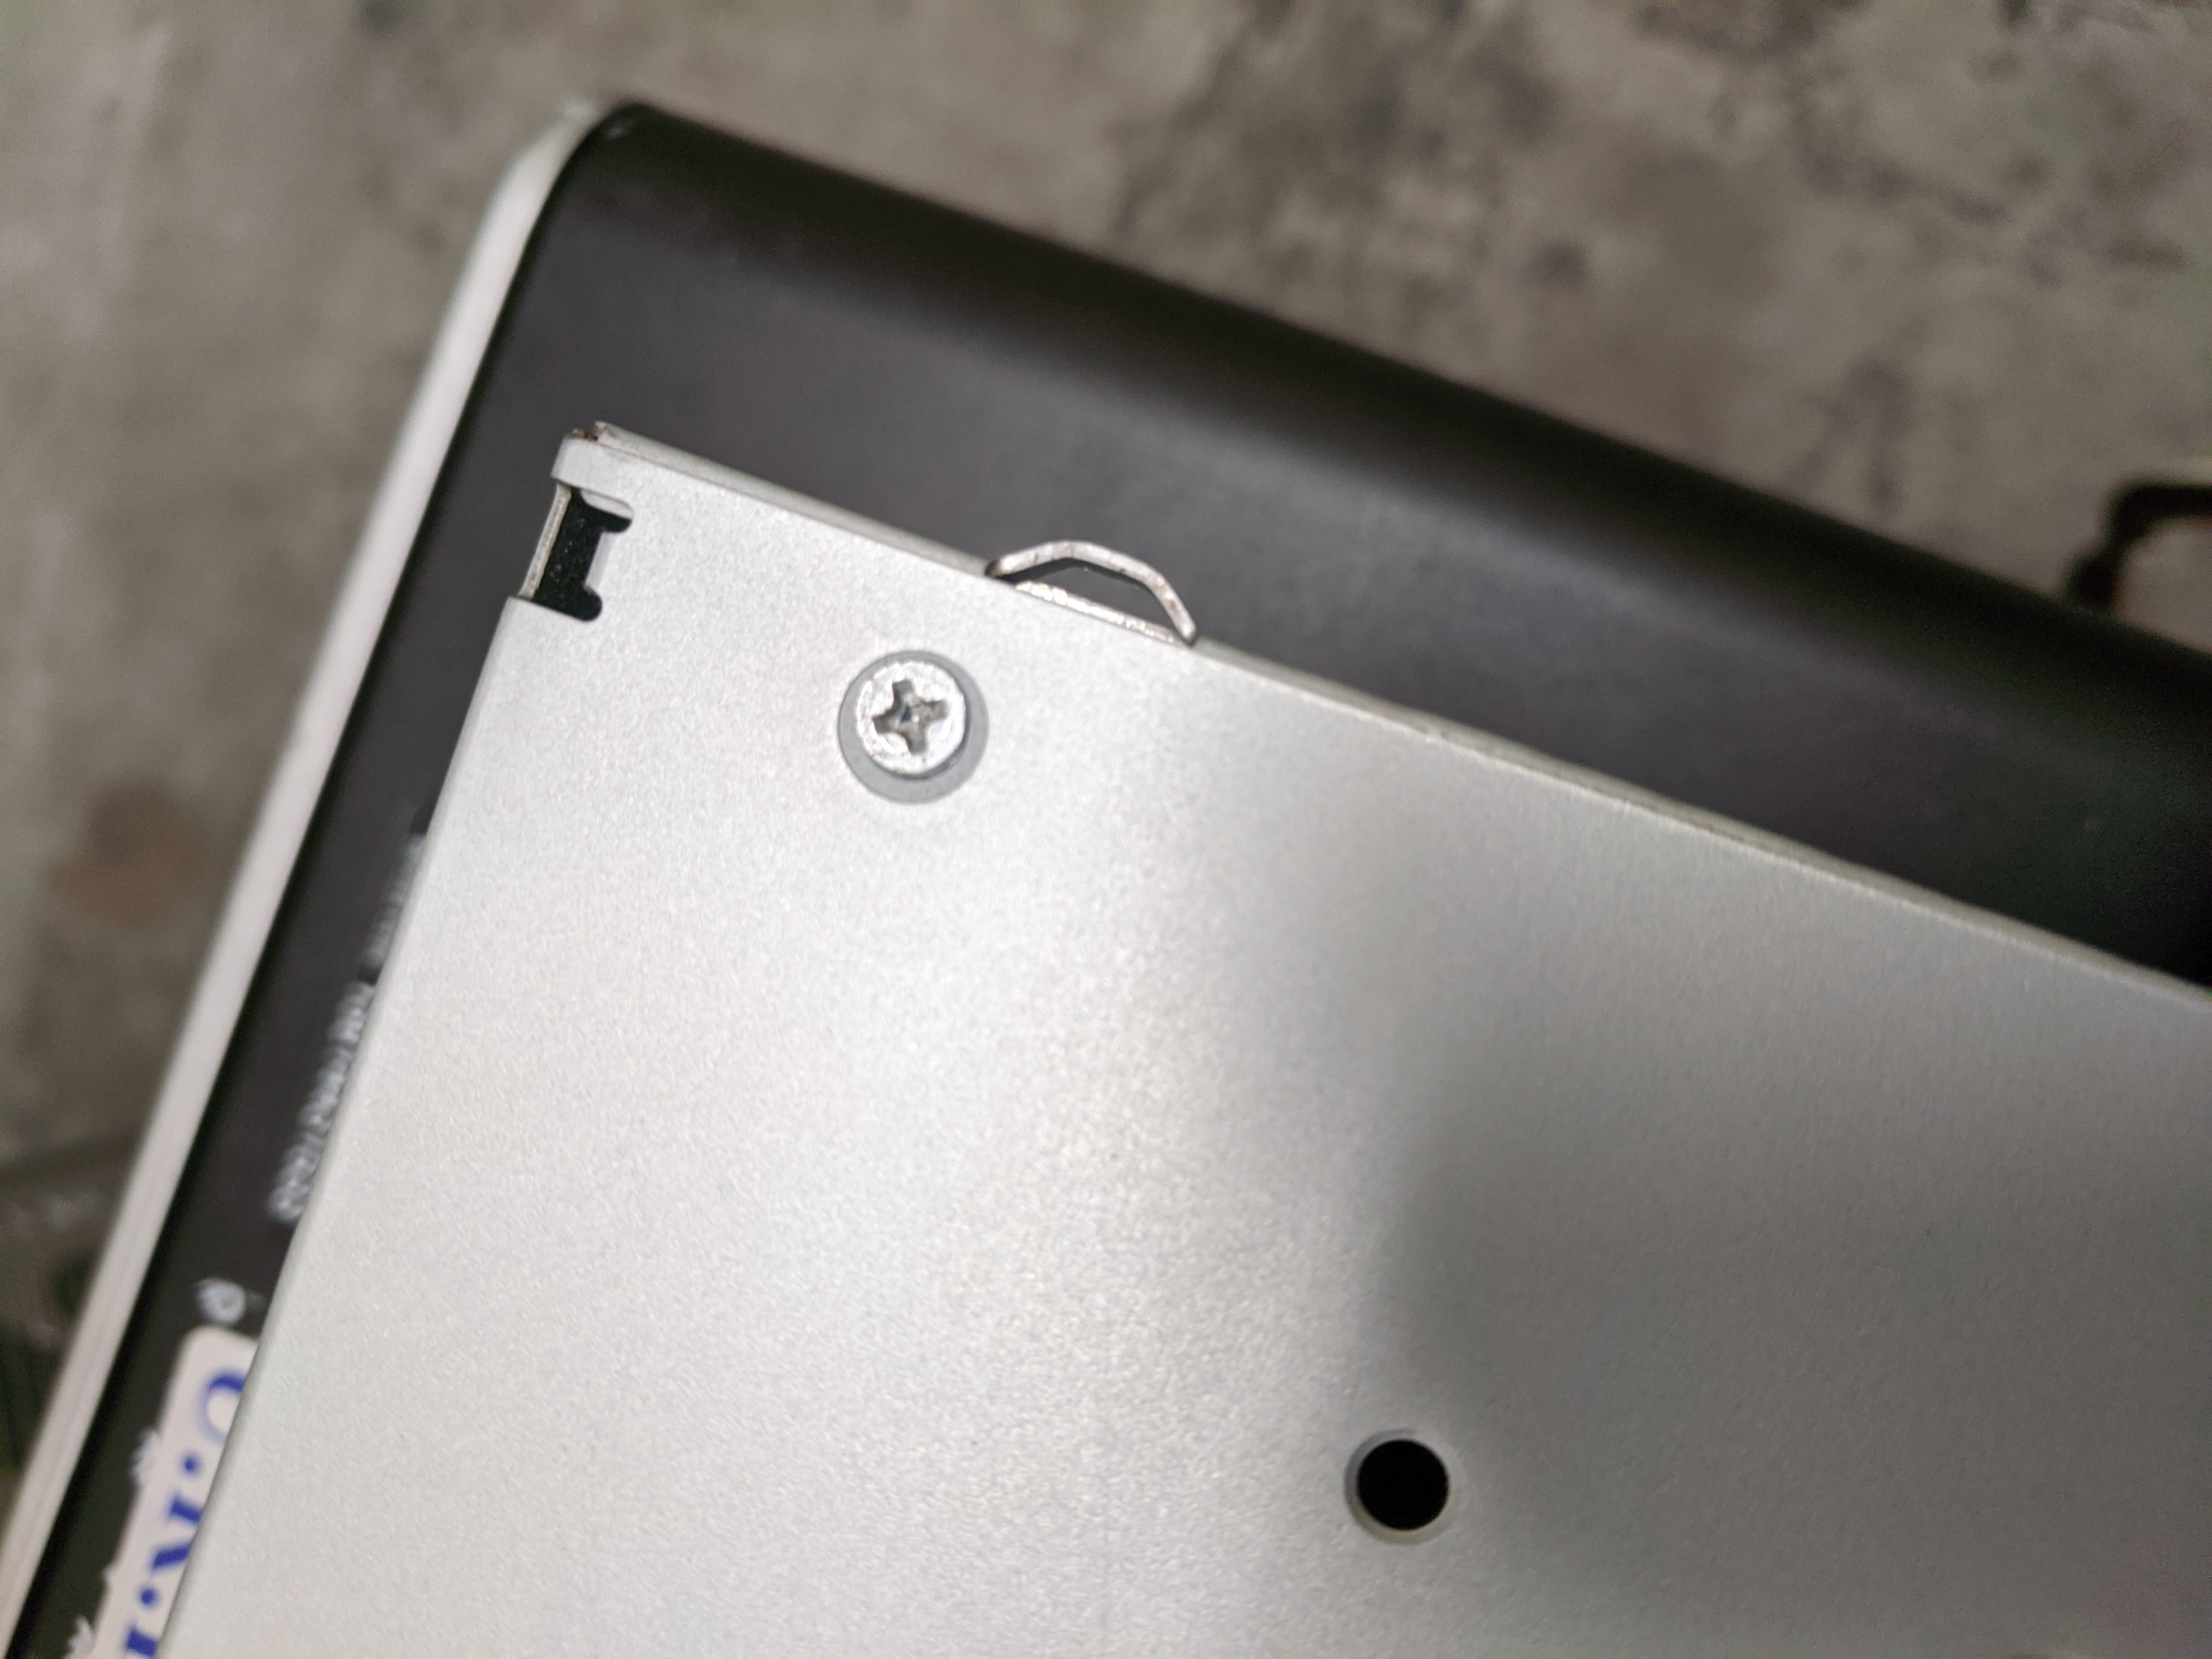cross_recessed_screw: (845, 647, 967, 774)
